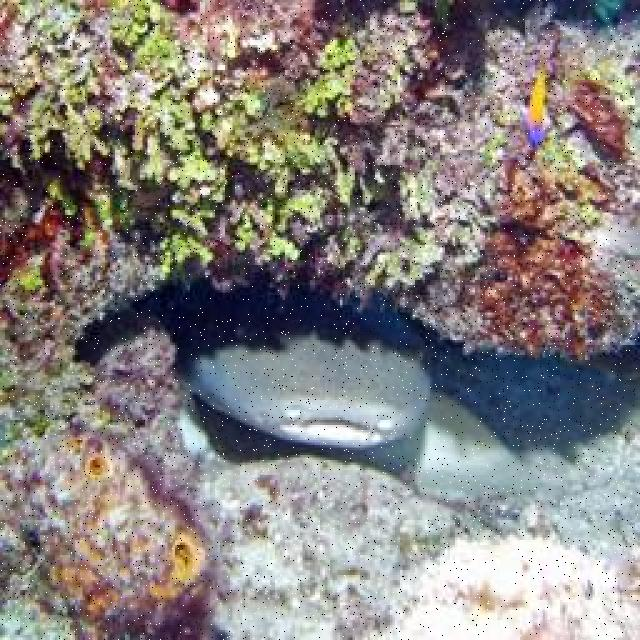fish: (112, 274, 544, 495), (523, 60, 553, 147)
